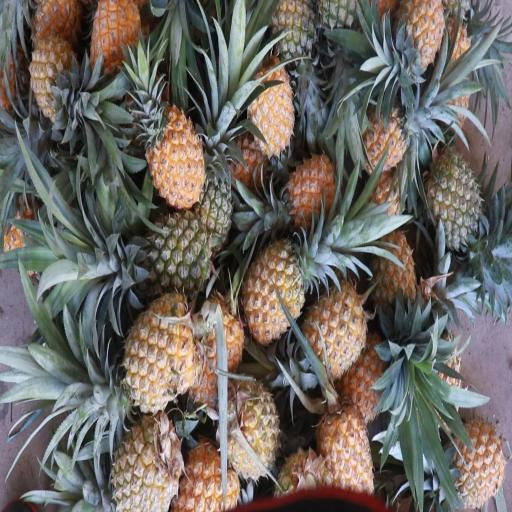------------------------------: (269, 0, 323, 75)
Pineapple - v8 v1: (120, 283, 198, 416), (301, 261, 375, 375), (240, 228, 311, 339), (108, 406, 181, 512), (217, 367, 280, 481), (144, 86, 206, 201), (187, 293, 246, 412), (315, 396, 375, 512), (243, 40, 295, 162), (279, 150, 344, 238), (172, 433, 244, 512), (22, 15, 81, 111), (364, 215, 422, 308), (350, 88, 403, 186), (448, 416, 503, 510), (85, 0, 145, 83), (395, 0, 453, 72)
